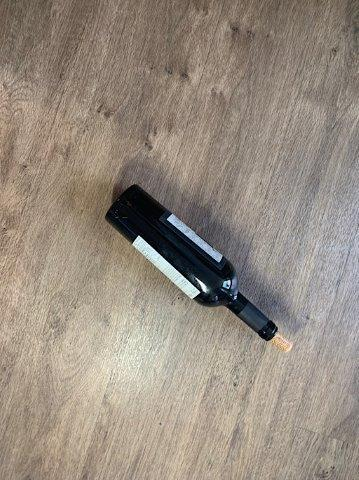botolkaca: (106, 184, 279, 342)
